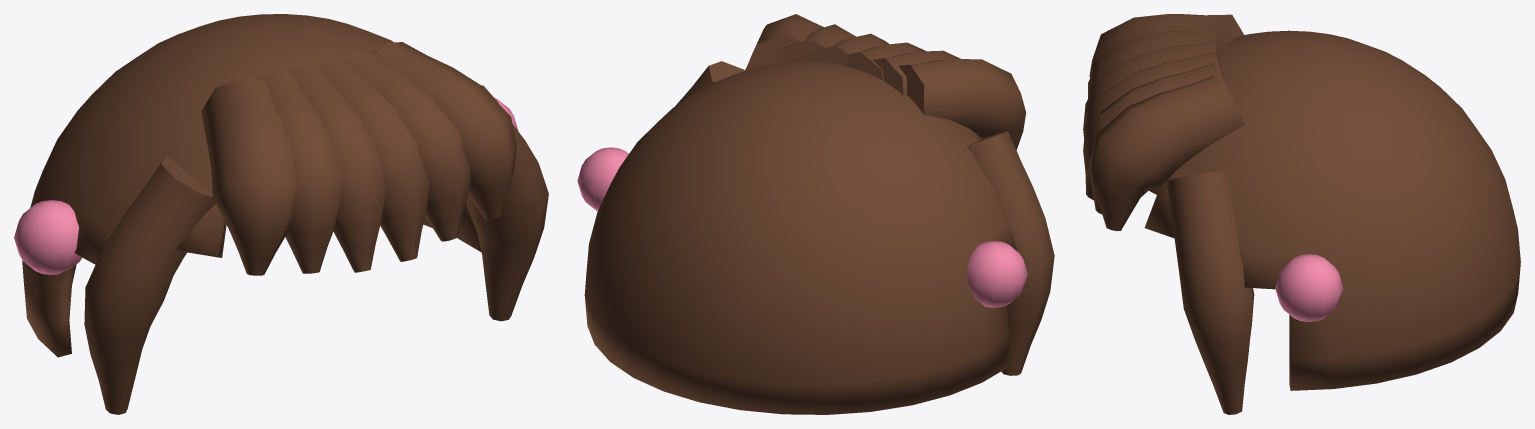
Rendered from hair_twin.glb.
3 renders of one model, left to right at view 1: azimuth 30°, elevation 25°; view 2: azimuth 150°, elevation 25°; view 3: azimuth 270°, elevation 25°, orthographic. The views are drawn at different scales.
Visible parts, largest first — view 1: lock; view 2: lock; view 3: lock.
Part boxes in pixels (box(x1,y1,x2,y2)): lock: box(14, 14, 548, 414); lock: box(577, 14, 1054, 414); lock: box(1083, 14, 1520, 414).
Size of the model in its own units: 2.58 by 1.55 by 2.18.
